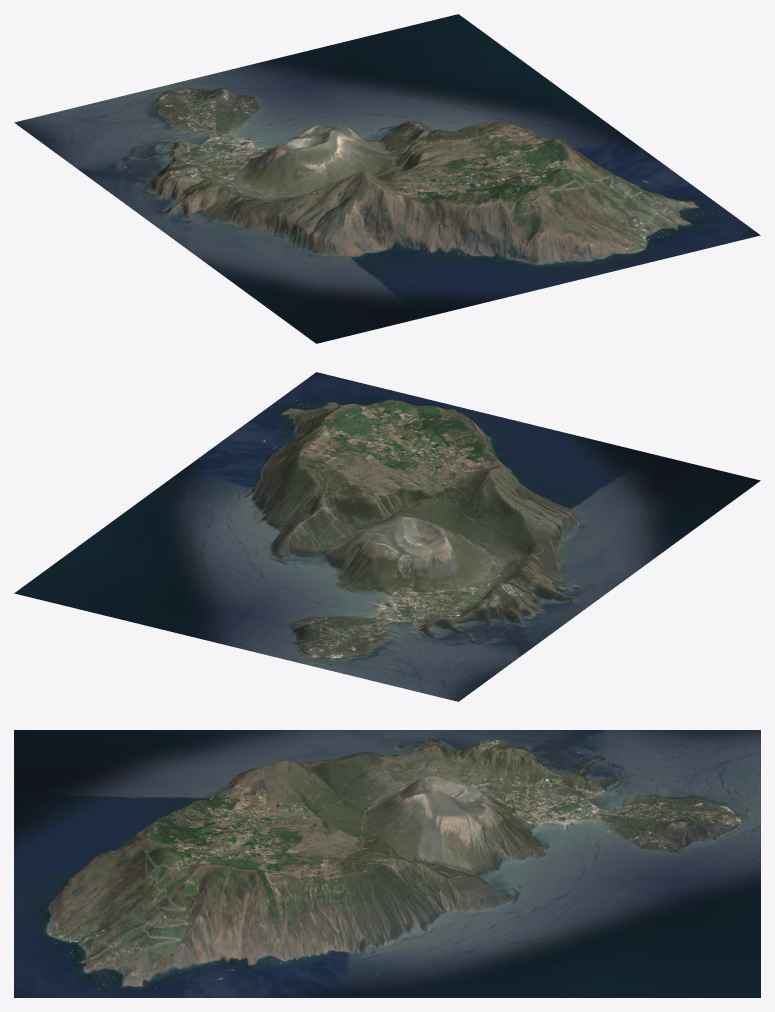
3 renders of one model, top to bottom at view 1: azimuth 30°, elevation 25°; view 2: azimuth 150°, elevation 25°; view 3: azimuth 270°, elevation 25°, orthographic. The views are drawn at different scales.
Visible parts, largest first — view 1: TerrainNode_0; view 2: TerrainNode_0; view 3: TerrainNode_0.
Boxes of the visible parts, box(x1,y1,x2,y2) form: TerrainNode_0: box(14, 14, 760, 343); TerrainNode_0: box(14, 372, 760, 701); TerrainNode_0: box(14, 730, 760, 997).
Size of the model in its own units: 8473 by 990 by 9982.
Materials: 1 (1 with a texture image).
